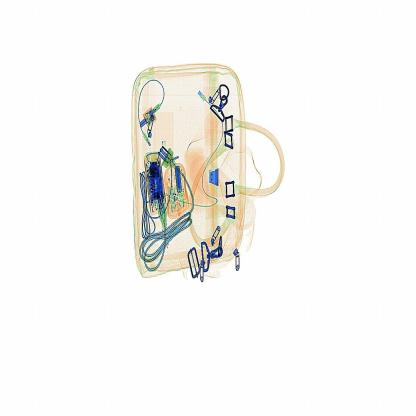scissors: (148, 159, 167, 212)
